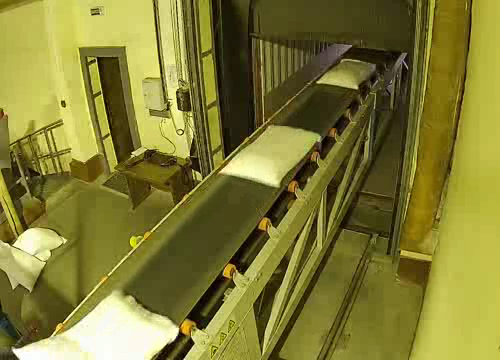bag: (9, 286, 187, 360), (217, 123, 325, 190), (316, 57, 381, 94)
